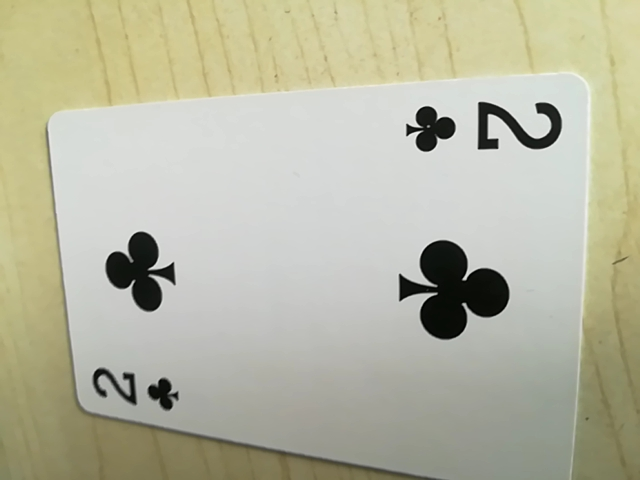mh 2: (400, 92, 563, 167), (83, 362, 188, 419)
